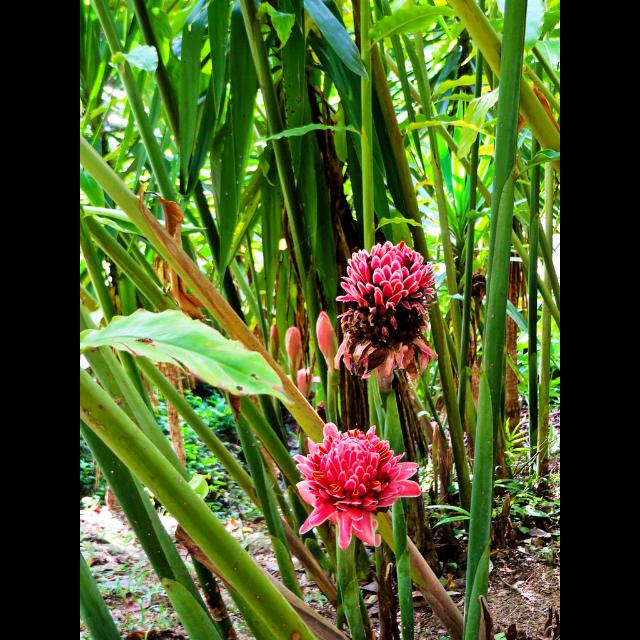Flower: (297, 427, 419, 547), (334, 296, 438, 390), (337, 242, 438, 314), (315, 311, 335, 371), (286, 326, 302, 369), (265, 325, 279, 363), (296, 368, 312, 400), (399, 375, 415, 403), (317, 400, 325, 424)
